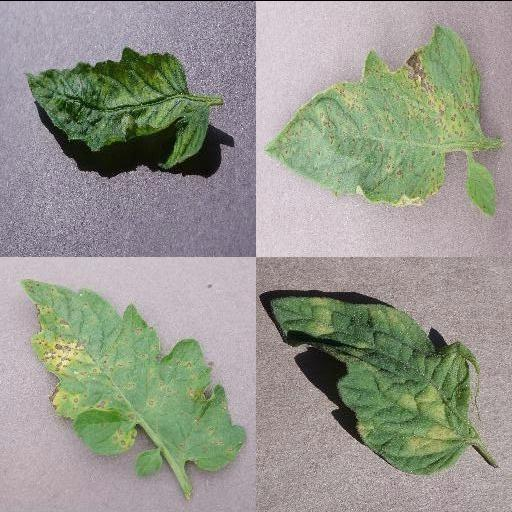Leaf Mold: (269, 296, 469, 472)
Mosaic Virus: (23, 45, 211, 169)
Septoria: (21, 281, 248, 471), (264, 20, 488, 204)
